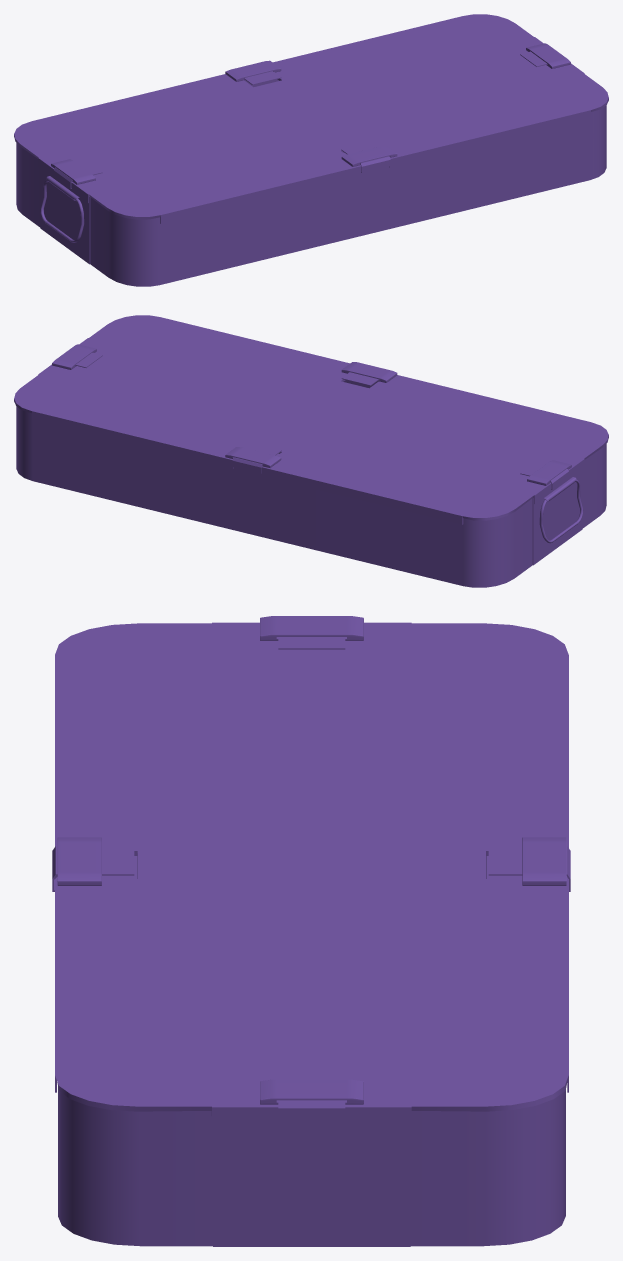
Rendered from Toolbox.fbx.
3 views of the same model, one above another, from view 1: azimuth 30°, elevation 25°; view 2: azimuth 150°, elevation 25°; view 3: azimuth 270°, elevation 25° (orthographic). The views are drawn at different scales.
Parts seen in each view (by area): view 1: Tools_ToolBox_03:toolbox_top, Tools_ToolBox_03:toolbox_base, Tools_ToolBox_03:slide_holder3, Tools_ToolBox_03:slide_holder4, Tools_ToolBox_03:slide_holder1, Tools_ToolBox_03:slide_holder2, Tools_ToolBox_03:slide3, Tools_ToolBox_03:handle1, Tools_ToolBox_03:slide1; view 2: Tools_ToolBox_03:toolbox_top, Tools_ToolBox_03:toolbox_base, Tools_ToolBox_03:slide_holder3, Tools_ToolBox_03:slide_holder4, Tools_ToolBox_03:slide_holder1, Tools_ToolBox_03:slide_holder2, Tools_ToolBox_03:slide4, Tools_ToolBox_03:handle1, Tools_ToolBox_03:slide1; view 3: Tools_ToolBox_03:toolbox_top, Tools_ToolBox_03:toolbox_base, Tools_ToolBox_03:slide_holder2, Tools_ToolBox_03:slide_holder1, Tools_ToolBox_03:slide_holder4, Tools_ToolBox_03:slide_holder3, Tools_ToolBox_03:slide2, Tools_ToolBox_03:slide4, Tools_ToolBox_03:slide3, Tools_ToolBox_03:slide1.
Boxes of the visible parts, bbox=[...] form: Tools_ToolBox_03:toolbox_top: bbox=[14, 14, 608, 223]; Tools_ToolBox_03:toolbox_base: bbox=[16, 79, 606, 286]; Tools_ToolBox_03:slide_holder3: bbox=[341, 146, 397, 166]; Tools_ToolBox_03:slide_holder4: bbox=[225, 60, 281, 81]; Tools_ToolBox_03:slide_holder1: bbox=[51, 159, 95, 184]; Tools_ToolBox_03:slide_holder2: bbox=[526, 43, 570, 68]; Tools_ToolBox_03:slide3: bbox=[341, 142, 390, 172]; Tools_ToolBox_03:handle1: bbox=[40, 179, 84, 242]; Tools_ToolBox_03:slide1: bbox=[54, 160, 102, 188]; Tools_ToolBox_03:toolbox_top: bbox=[14, 315, 608, 524]; Tools_ToolBox_03:toolbox_base: bbox=[16, 380, 606, 587]; Tools_ToolBox_03:slide_holder3: bbox=[341, 362, 397, 382]; Tools_ToolBox_03:slide_holder4: bbox=[225, 447, 281, 467]; Tools_ToolBox_03:slide_holder1: bbox=[527, 460, 571, 485]; Tools_ToolBox_03:slide_holder2: bbox=[52, 344, 96, 369]; Tools_ToolBox_03:slide4: bbox=[232, 443, 281, 473]; Tools_ToolBox_03:handle1: bbox=[539, 480, 583, 543]; Tools_ToolBox_03:slide1: bbox=[520, 461, 568, 489]; Tools_ToolBox_03:toolbox_top: bbox=[55, 622, 568, 1124]; Tools_ToolBox_03:toolbox_base: bbox=[58, 856, 565, 1246]; Tools_ToolBox_03:slide_holder2: bbox=[260, 1079, 363, 1104]; Tools_ToolBox_03:slide_holder1: bbox=[260, 616, 363, 640]; Tools_ToolBox_03:slide_holder4: bbox=[522, 837, 566, 885]; Tools_ToolBox_03:slide_holder3: bbox=[57, 837, 101, 885]; Tools_ToolBox_03:slide2: bbox=[278, 1072, 345, 1120]; Tools_ToolBox_03:slide4: bbox=[488, 846, 570, 891]; Tools_ToolBox_03:slide3: bbox=[52, 846, 134, 891]; Tools_ToolBox_03:slide1: bbox=[278, 637, 345, 649].
Size of the model in its own units: 14.18 by 2 by 6.33.
